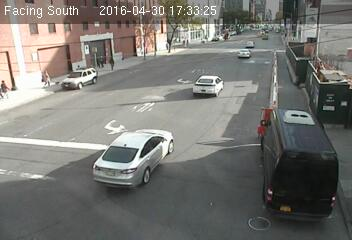neg: (32, 27, 51, 53), (257, 106, 275, 130), (190, 44, 205, 63), (133, 39, 146, 57), (233, 49, 246, 66), (71, 31, 84, 47), (146, 44, 158, 58), (205, 80, 216, 95), (101, 23, 111, 36)
pos: (39, 68, 53, 87), (107, 55, 119, 71), (98, 55, 108, 68)
